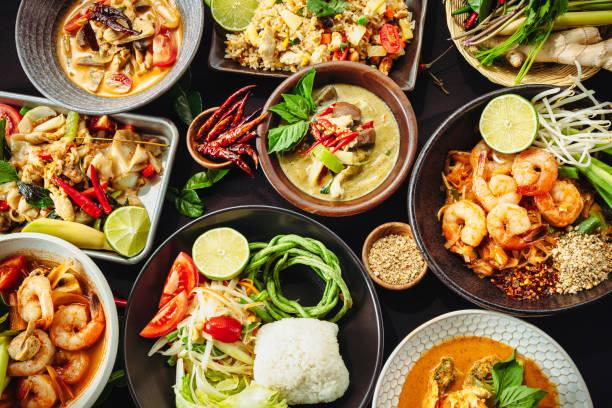Braised Crucian Carp: (124, 206, 379, 405), (406, 85, 607, 314), (0, 87, 194, 251), (254, 61, 411, 217), (368, 308, 596, 408), (0, 231, 120, 408), (15, 1, 200, 113), (210, 0, 435, 88)
